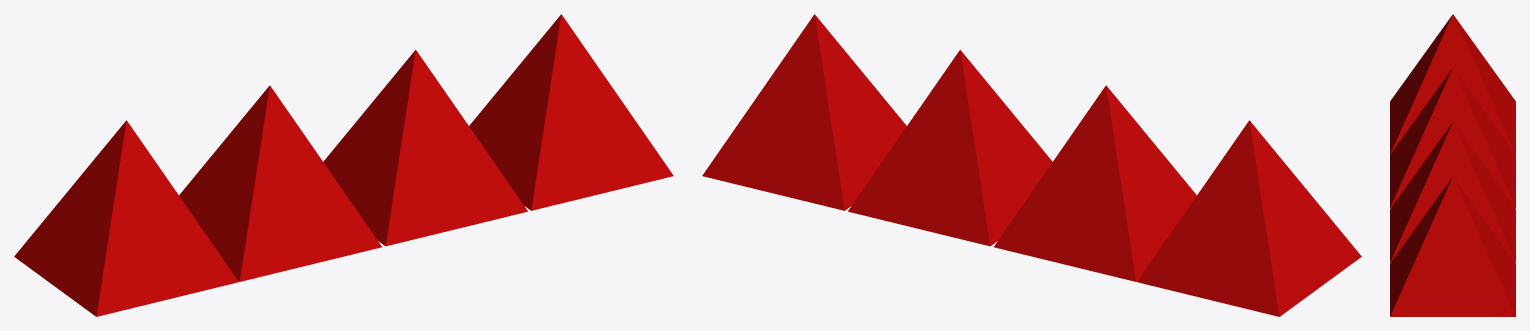
File: blade.fbx
3 renders of one model, left to right at view 1: azimuth 30°, elevation 25°; view 2: azimuth 150°, elevation 25°; view 3: azimuth 270°, elevation 25°, orthographic. The views are drawn at different scales.
Parts seen in each view (by area): view 1: blade; view 2: blade; view 3: blade.
Part boxes in pixels (x1,y1,x2,y2): blade: (14,14,673,316); blade: (702,14,1361,316); blade: (1390,14,1515,316).
Bounding box in the file's own units: 809 × 200 × 200.
